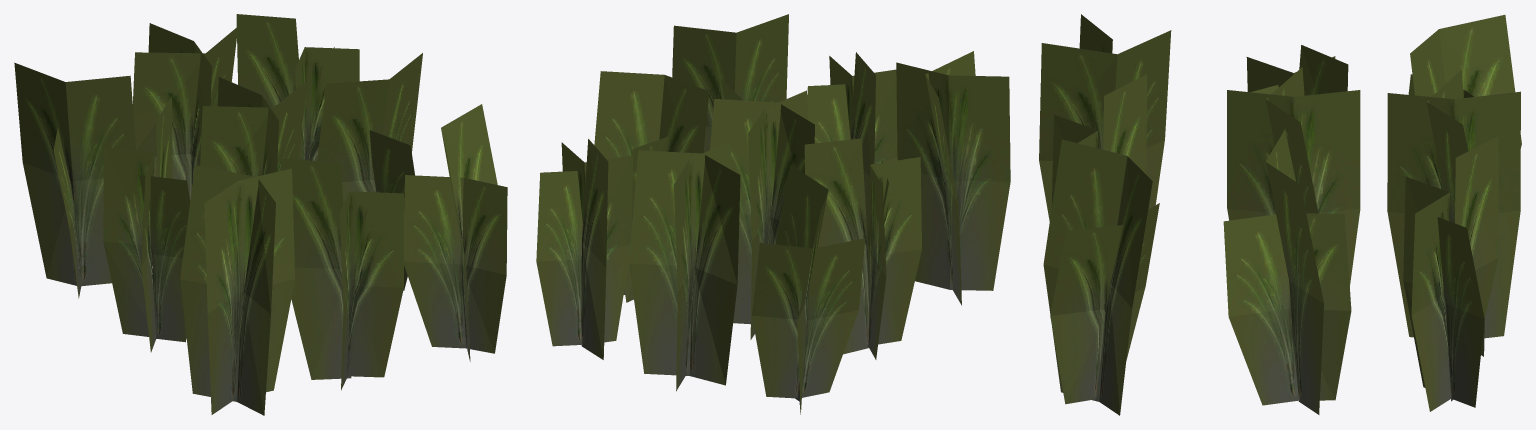
Rendered from bg_anh_foliage_crops15_sm_ksy.FBX.
3 renders of one model, left to right at view 1: azimuth 30°, elevation 25°; view 2: azimuth 150°, elevation 25°; view 3: azimuth 270°, elevation 25°, orthographic. The views are drawn at different scales.
Parts seen in each view (by area): view 1: bg_anh_foliage_crops15_sm_ksy; view 2: bg_anh_foliage_crops15_sm_ksy; view 3: bg_anh_foliage_crops15_sm_ksy.
Part boxes in pixels (bbox=[...]): bg_anh_foliage_crops15_sm_ksy: bbox=[14, 14, 507, 415]; bg_anh_foliage_crops15_sm_ksy: bbox=[536, 14, 1010, 414]; bg_anh_foliage_crops15_sm_ksy: bbox=[1039, 14, 1521, 415].
Bounding box in the file's own units: 103 × 66.55 × 120.
